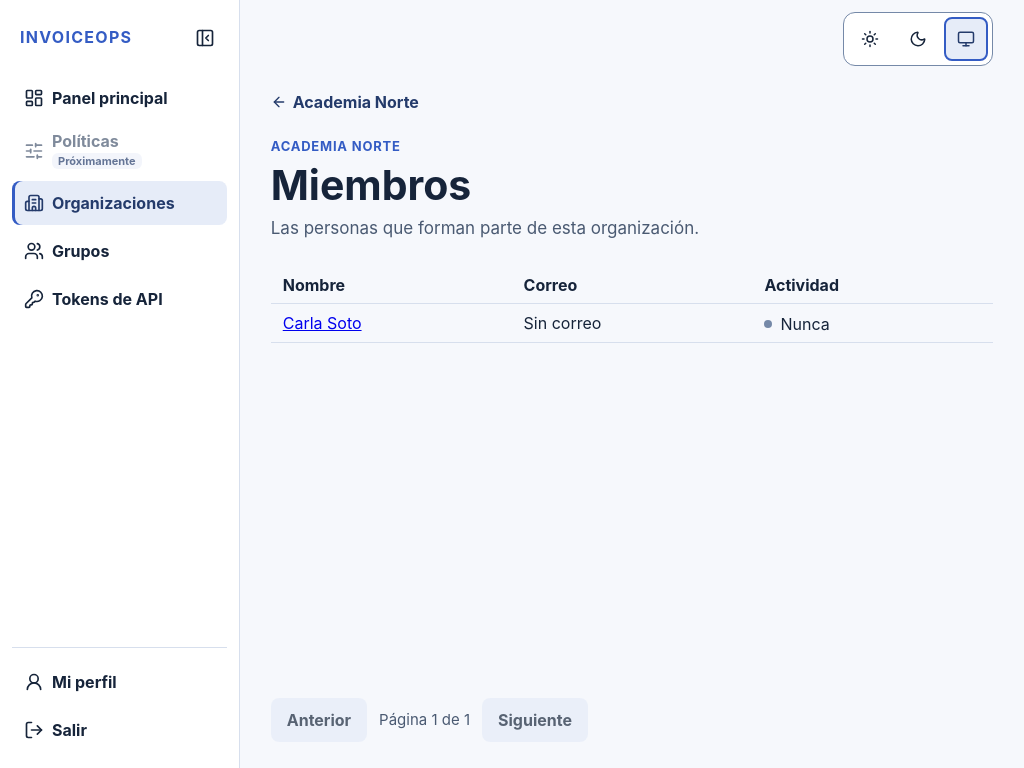
it: basic user profile at /users/:userId (AC-17) › is reached from the reduced member list
The image size is (1024, 768).
Click the link "Carla Soto": (322, 323) [283,313,362,333]
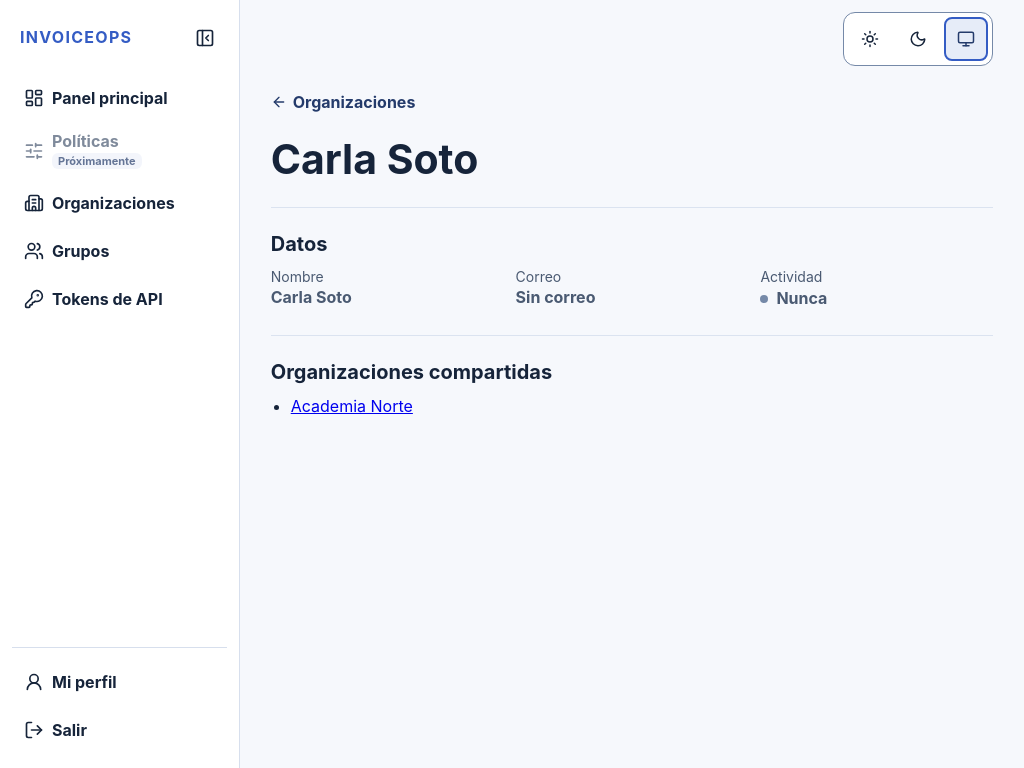
expect the heading "Carla Soto" is shown: met, box [271,134,478,184]
